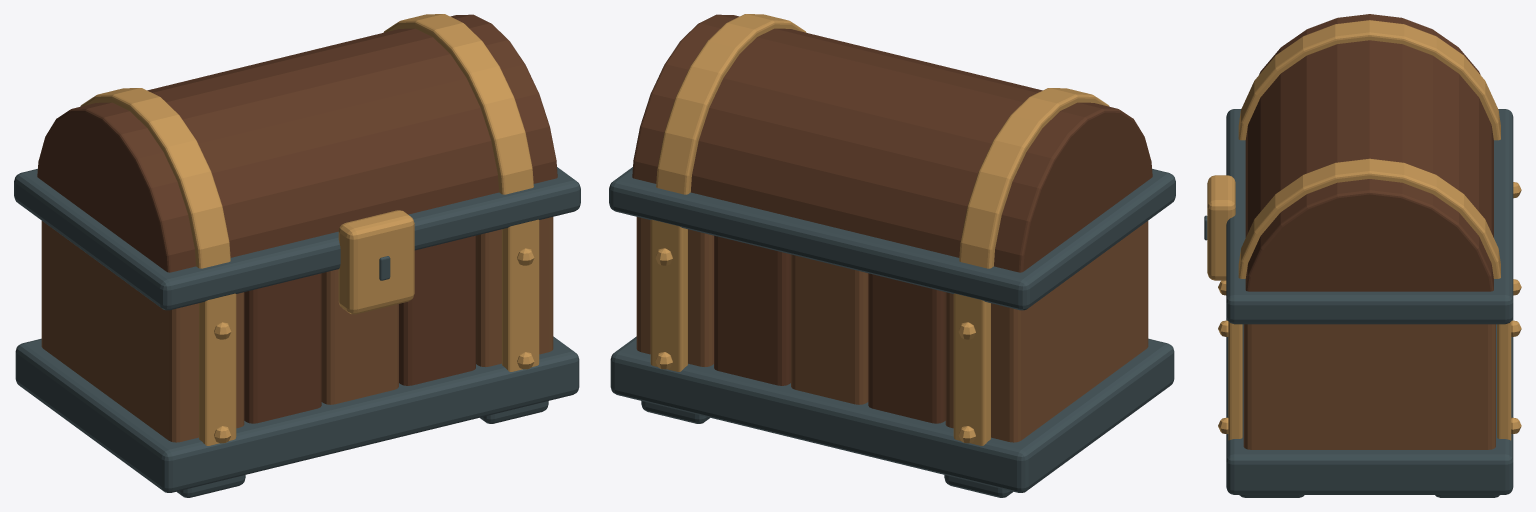
File: VaultChest.glb
3 renders of one model, left to right at view 1: azimuth 30°, elevation 25°; view 2: azimuth 150°, elevation 25°; view 3: azimuth 270°, elevation 25°, orthographic. The views are drawn at different scales.
Visible parts, largest first — view 1: VaultChest.001; view 2: VaultChest.001; view 3: VaultChest.001.
Part boxes in pixels (x1,y1,x2,y2): VaultChest.001: (14, 14, 580, 497); VaultChest.001: (609, 14, 1175, 497); VaultChest.001: (1204, 14, 1521, 497).
Size of the model in its own units: 1.44 by 1.12 by 1.01.
